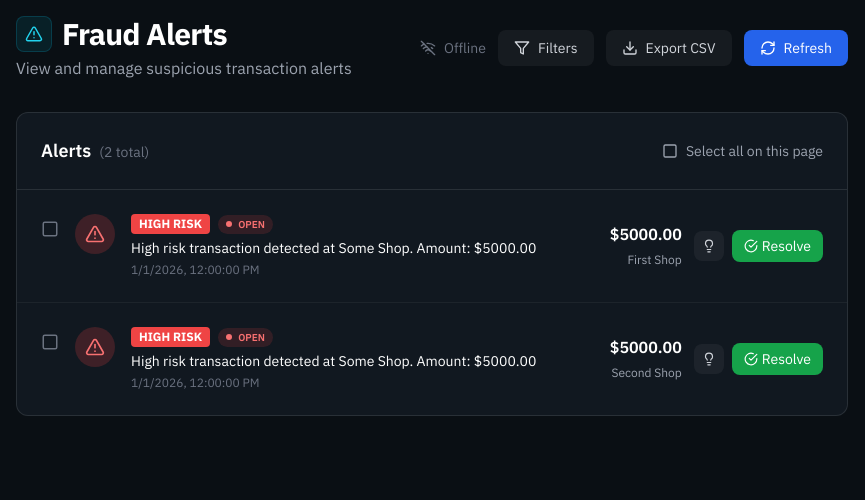
it: AlertsPage — bulk actions › selecting alerts reveals the bulk action bar with a running count
Expected: the text "First Shop" is shown, 627,252 -> 682,267
Expected: the text "selected" is not shown
Click the 1st button named "Select". click: coordinates (50, 229)
box: 41,220 -> 59,238
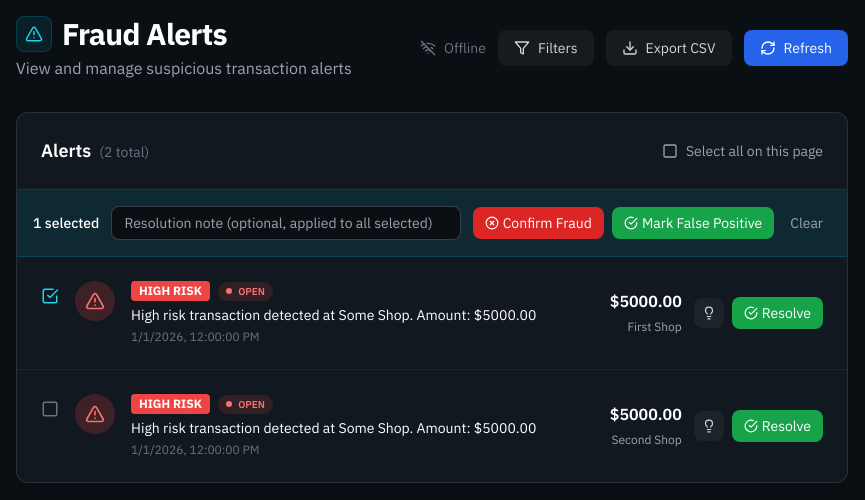
Result: the text "1 selected" is shown at 33,213 -> 99,233
Click the button named "Select". click: coordinates (50, 409)
box: 41,400 -> 59,418
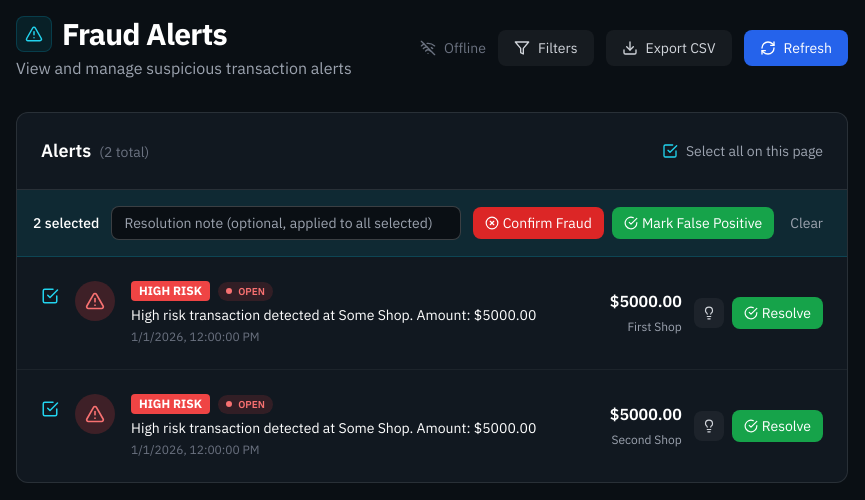
Result: the text "2 selected" is shown at 33,213 -> 99,233
